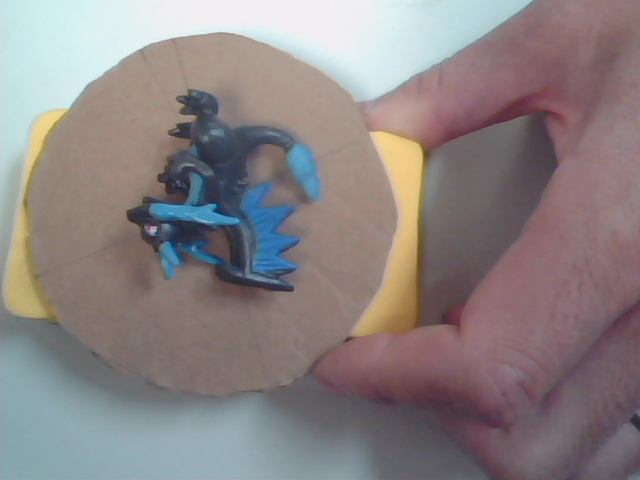charizard: (112, 89, 350, 317)
